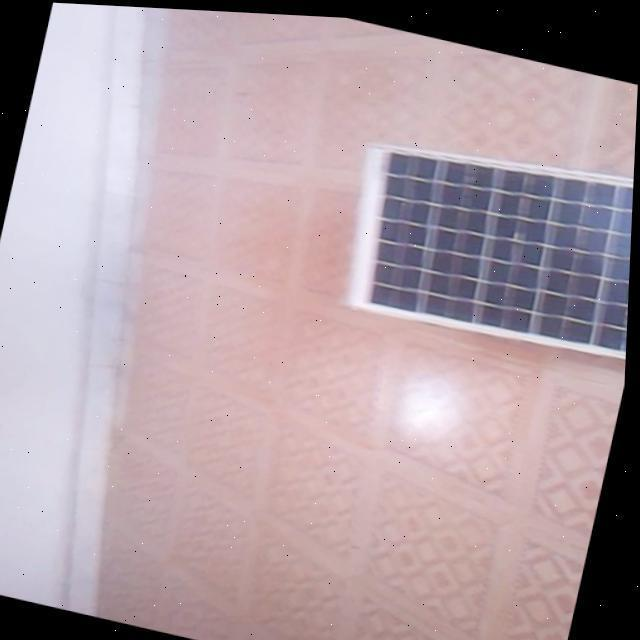Normal Solar Panel: (332, 107, 636, 362)
